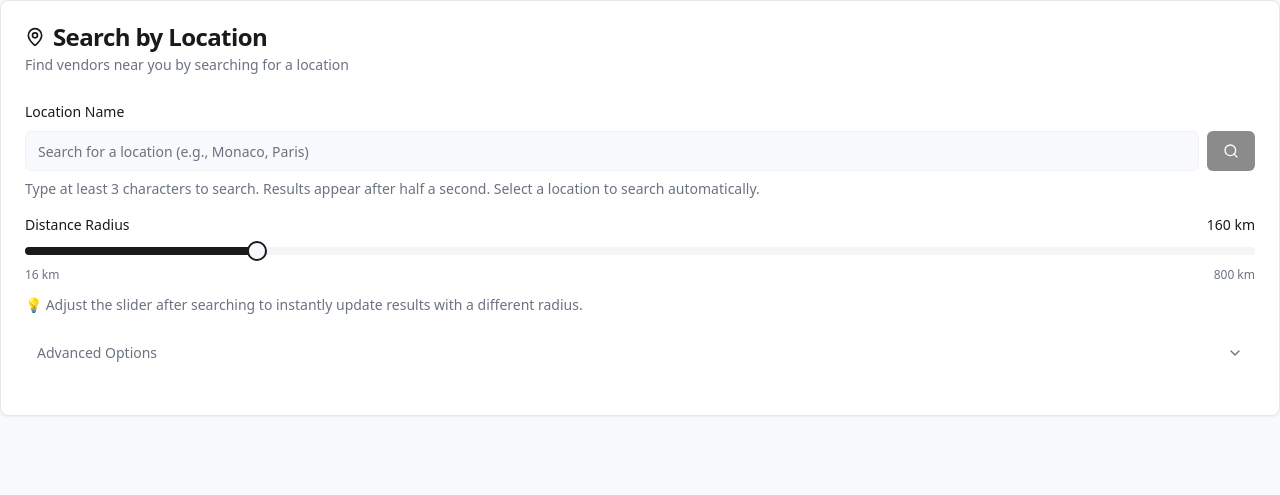
Test: LocationSearchFilter › Error Handling › should handle network errors gracefully
Type "Monaco" into the field labelled "Location Name" at (612, 151), box [25,131,1199,171]
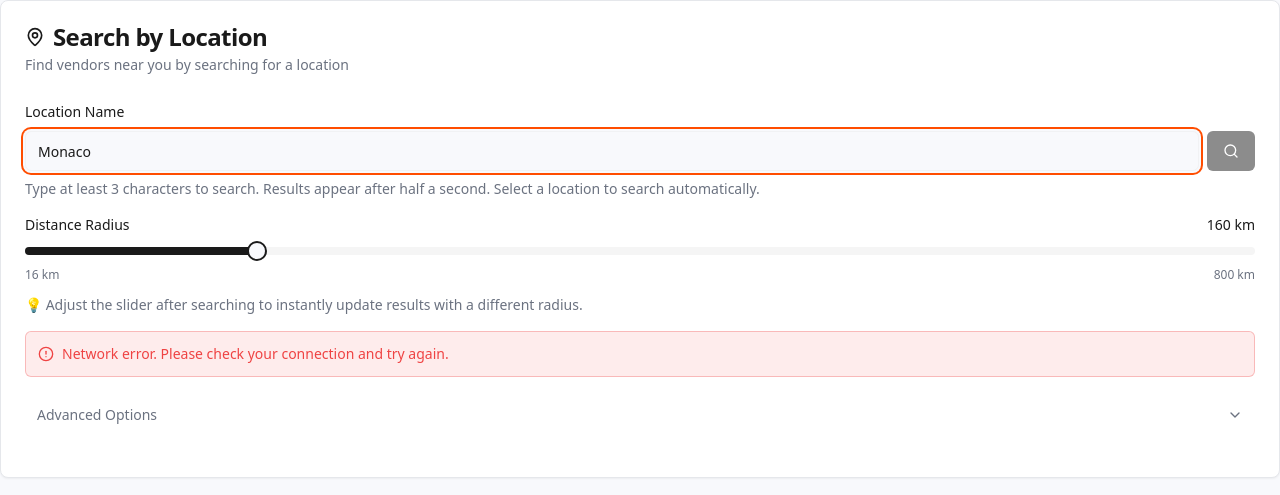
Now the message "Network error. Please check your connection and try again." is shown, box [25,331,1255,377]
Now the text "Network error. Please check your connection and try again." is shown, box [62,344,449,364]
